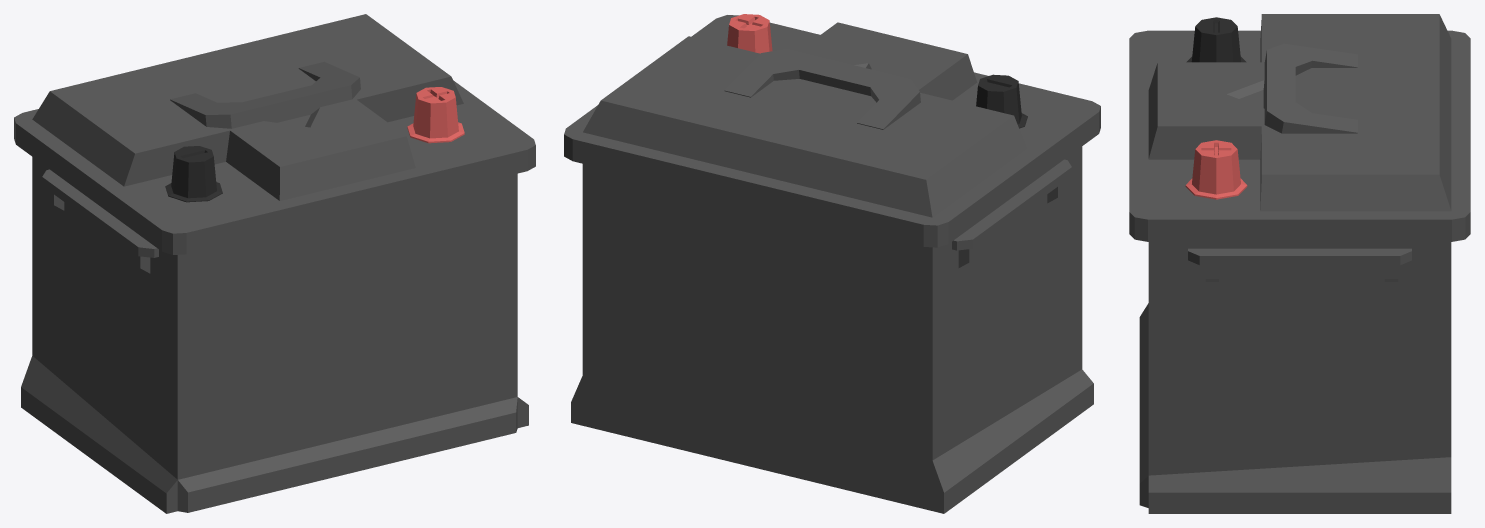
Rendered from car_battery.glb.
The picture shows the model from 3 angles, left to right: view 1: azimuth 30°, elevation 25°; view 2: azimuth 150°, elevation 25°; view 3: azimuth 270°, elevation 25°; orthographic projection. The views are drawn at different scales.
Parts seen in each view (by area): view 1: CarBattery; view 2: CarBattery; view 3: CarBattery.
Part boxes in pixels (x1,y1,x2,y2): CarBattery: (14,14,535,513); CarBattery: (564,14,1100,513); CarBattery: (1129,14,1470,513).
Size of the model in its own units: 0.9807 by 0.8269 by 0.7491.
